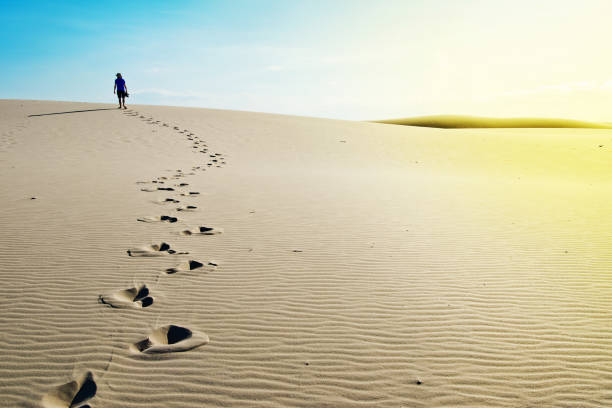human_foot_print: (130, 324, 208, 353), (50, 370, 99, 407), (111, 273, 151, 310), (191, 223, 231, 247), (181, 250, 205, 276), (147, 211, 177, 227), (148, 245, 168, 267), (177, 200, 199, 214), (156, 183, 175, 196), (196, 162, 213, 173), (176, 172, 191, 181)
